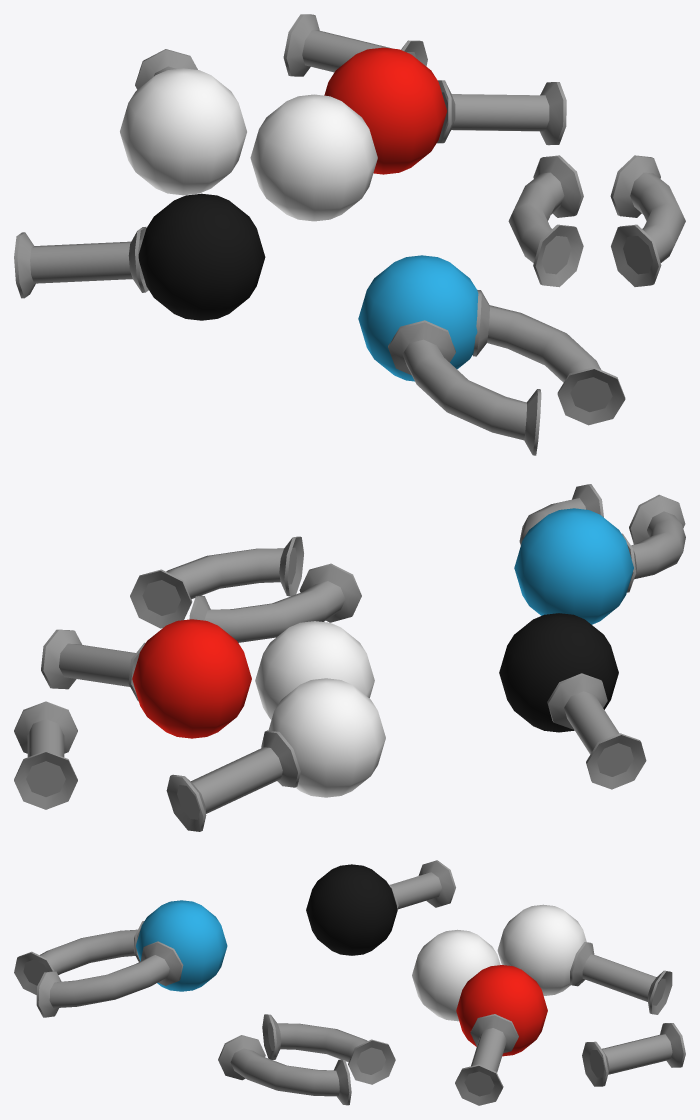
File: SM_Molecules_Pattern1_LOD0.FBX
The picture shows the model from 3 angles, top to bottom: view 1: azimuth 30°, elevation 25°; view 2: azimuth 150°, elevation 25°; view 3: azimuth 270°, elevation 25°; orthographic projection. The views are drawn at different scales.
Visible parts, largest first — view 1: SM_Molecule_Parts_Pattern1; view 2: SM_Molecule_Parts_Pattern1; view 3: SM_Molecule_Parts_Pattern1.
Part boxes in pixels (x1=…): SM_Molecule_Parts_Pattern1: x1=14, y1=14, x2=685, y2=455; SM_Molecule_Parts_Pattern1: x1=14, y1=484, x2=685, y2=831; SM_Molecule_Parts_Pattern1: x1=14, y1=860, x2=685, y2=1105.
Bounding box in the file's own units: 0.1622 × 0.0313 × 0.2196.
1 material, 1 textured.
